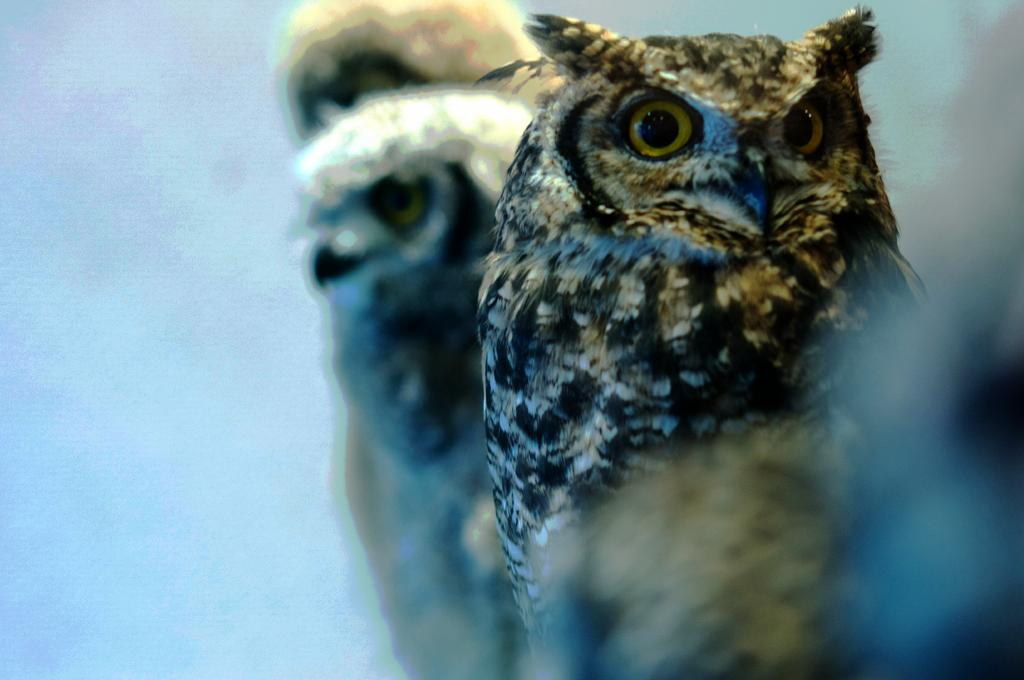Owl: (478, 0, 932, 679), (291, 82, 507, 677), (274, 0, 560, 137)
